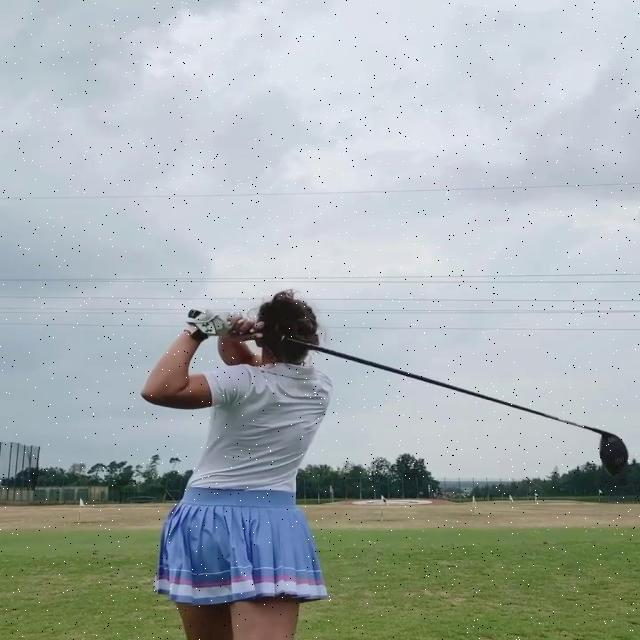ClubHandle: (187, 308, 629, 475)
ClubHead: (598, 432, 629, 476)
